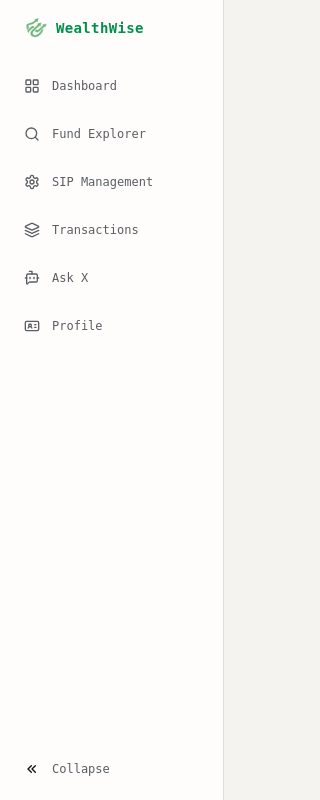
SidebarProvider › clicking collapse hides nav labels and WealthWise text
Click the button with aria-label "Collapse sidebar": (112,769) [12,755,211,783]
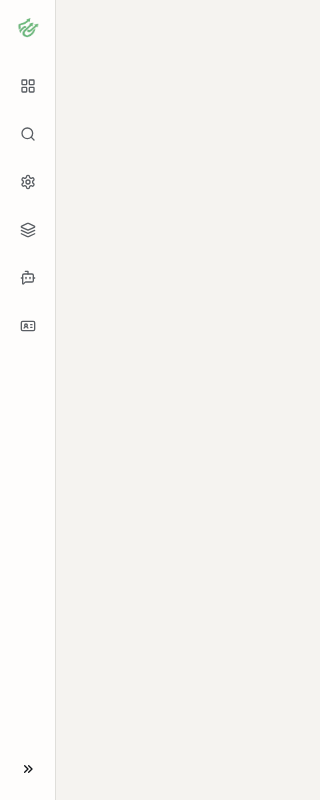
Now the link "Dashboard" is gone
Now the text "WealthWise" is gone
Now the button named "Expand sidebar" is shown, box [8,755,47,783]
